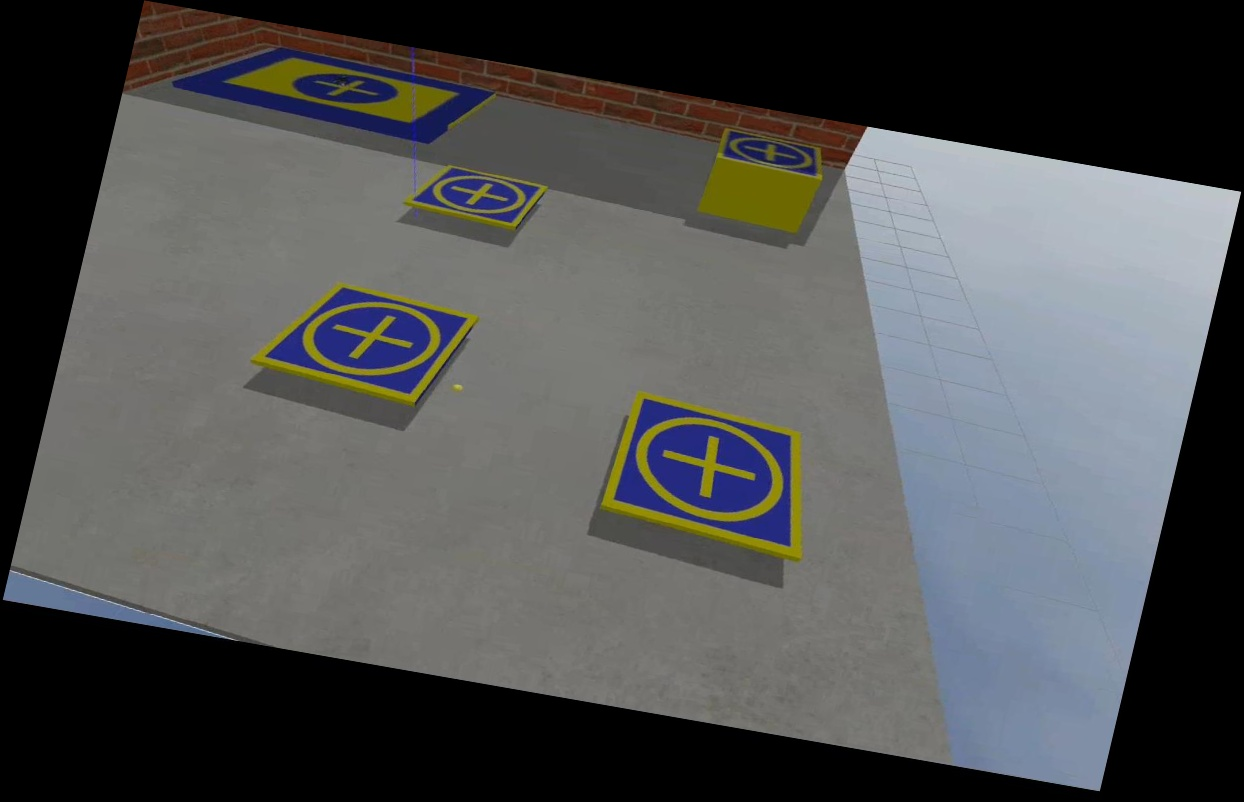large_base: (168, 29, 499, 156)
small_base: (593, 386, 838, 563), (245, 267, 482, 414), (404, 158, 551, 238), (712, 125, 829, 182)
